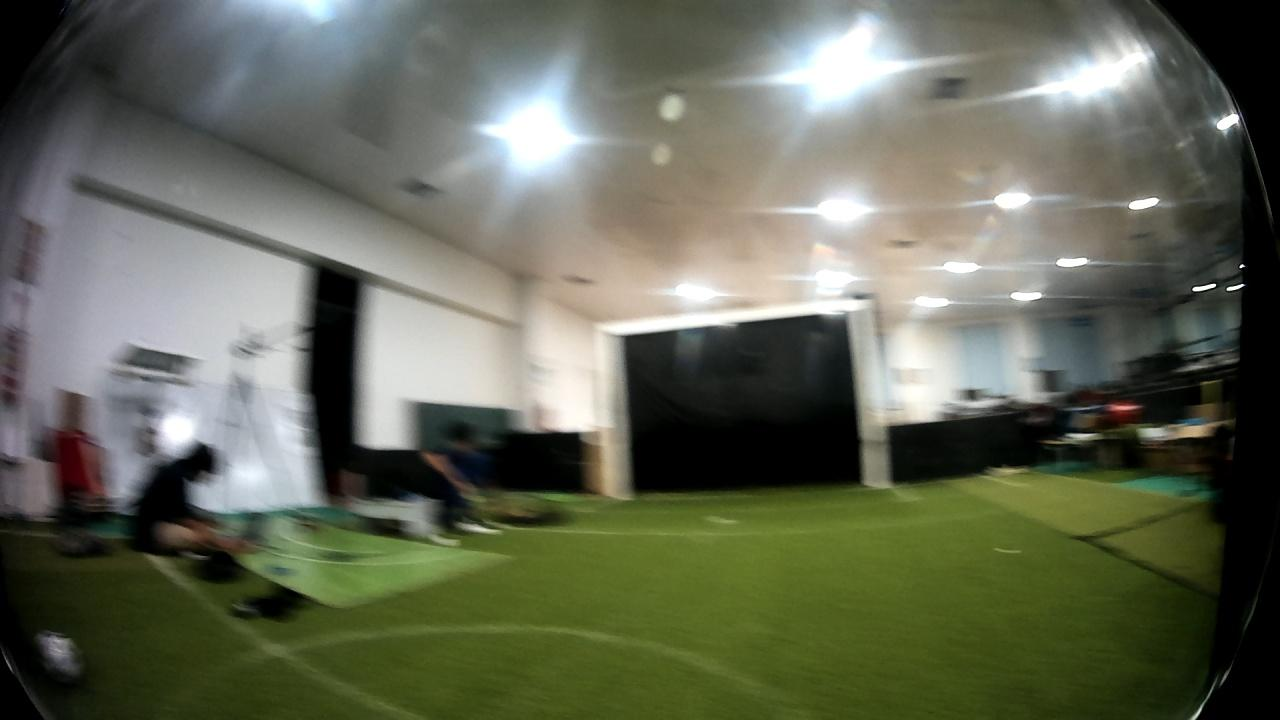ball: (27, 621, 90, 686)
